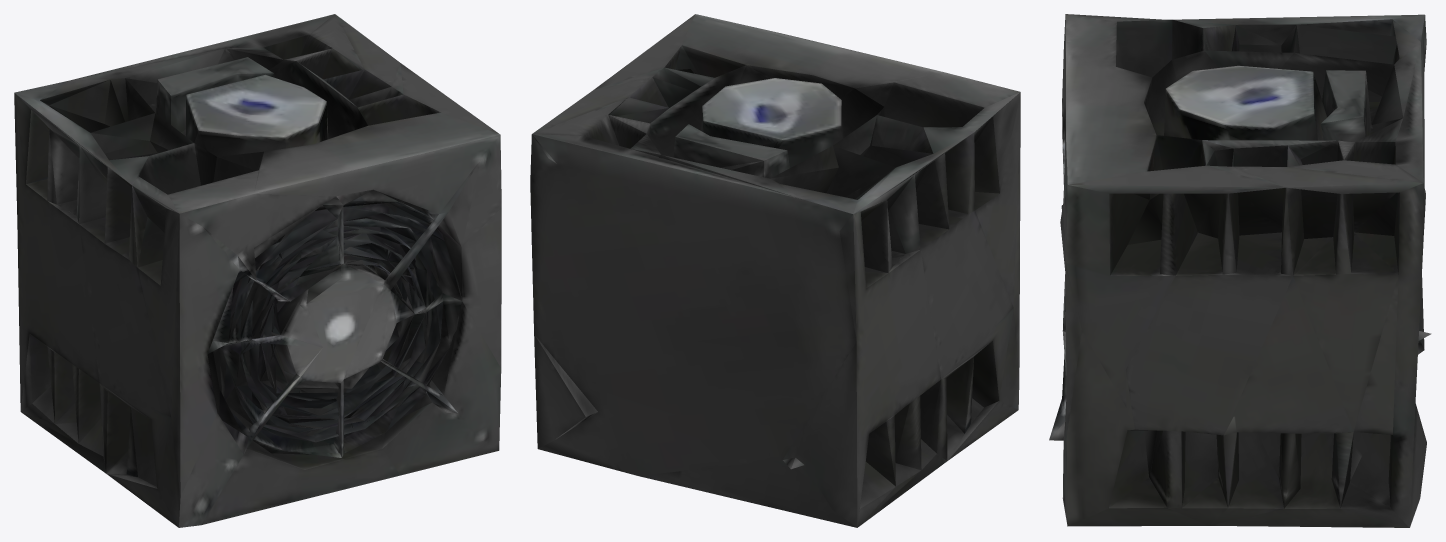
The model's file is m2RoofExhaustFan.glb.
3 views of the same model, side by side, from view 1: azimuth 30°, elevation 25°; view 2: azimuth 150°, elevation 25°; view 3: azimuth 270°, elevation 25° (orthographic). The views are drawn at different scales.
Visible parts, largest first — view 1: model; view 2: model; view 3: model.
Part boxes in pixels (bbox=[...]): model: bbox=[14, 14, 501, 527]; model: bbox=[530, 14, 1020, 527]; model: bbox=[1049, 14, 1431, 527].
Bounding box in the file's own units: 1.91 × 1.83 × 1.8.
1 material, 1 textured.
